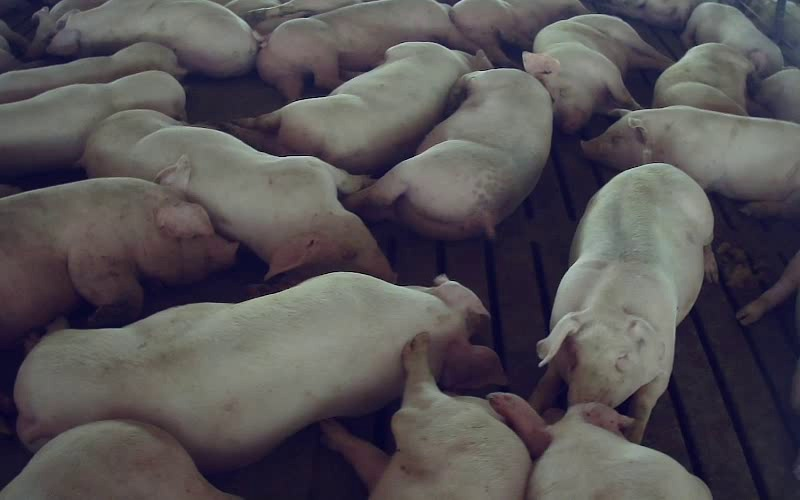pig: (81, 110, 393, 279), (530, 163, 717, 442), (0, 157, 236, 346), (345, 69, 552, 239), (322, 333, 531, 499), (227, 42, 489, 174), (581, 106, 799, 219), (488, 393, 711, 499), (257, 0, 475, 100), (0, 71, 185, 175), (523, 14, 671, 133), (47, 0, 257, 77), (0, 42, 186, 103), (450, 0, 587, 66), (681, 2, 783, 76), (653, 43, 753, 115)
